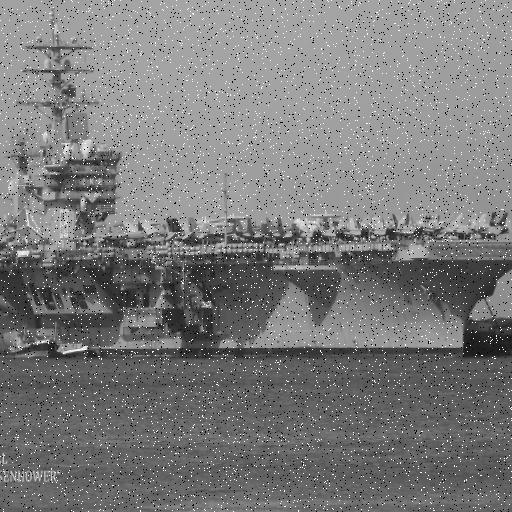Portanaves: (1, 5, 512, 363)
